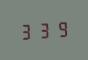nine: (53, 19, 69, 38)
three: (18, 21, 34, 40), (36, 20, 52, 39)
